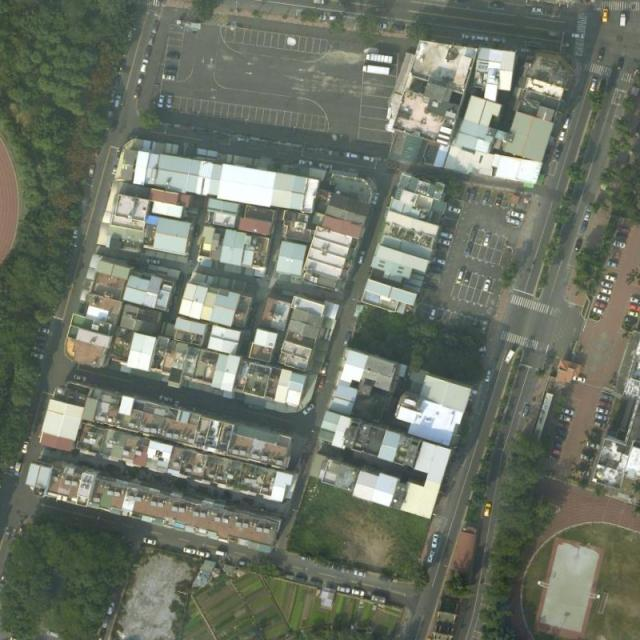vehicle: (366, 53, 394, 65), (363, 65, 390, 76), (370, 592, 388, 605), (301, 402, 316, 416), (437, 238, 454, 250), (138, 59, 150, 74), (447, 204, 462, 216), (158, 393, 174, 404), (597, 400, 613, 411), (439, 223, 456, 233), (467, 229, 478, 244), (318, 161, 334, 171), (356, 250, 366, 266), (555, 412, 571, 422), (438, 230, 454, 240), (588, 78, 598, 94), (551, 428, 567, 438), (316, 376, 327, 390), (598, 286, 612, 297), (597, 291, 611, 302), (511, 210, 525, 221), (505, 350, 515, 365), (432, 258, 447, 268), (467, 188, 477, 203), (430, 264, 445, 274), (343, 331, 352, 347), (570, 375, 586, 384), (455, 270, 464, 286), (374, 21, 390, 30), (463, 243, 474, 256), (310, 578, 324, 588), (346, 150, 360, 160), (87, 164, 97, 178), (132, 86, 142, 100), (320, 361, 330, 375), (196, 549, 210, 559), (337, 1, 351, 11), (428, 308, 438, 322), (482, 234, 492, 248), (581, 454, 595, 464), (494, 192, 504, 206), (298, 159, 315, 167), (483, 502, 491, 519), (351, 589, 366, 598), (489, 1, 504, 10), (595, 413, 610, 422), (611, 241, 626, 250), (616, 226, 631, 235), (482, 191, 491, 206), (483, 278, 493, 291), (546, 30, 562, 38), (586, 442, 602, 450), (554, 422, 570, 430), (549, 435, 565, 443), (107, 602, 116, 616), (362, 154, 376, 163), (73, 374, 87, 383), (21, 441, 30, 455), (182, 546, 196, 555), (214, 549, 228, 558), (313, 13, 327, 22), (427, 550, 436, 564), (596, 408, 610, 417), (600, 393, 614, 402), (624, 317, 638, 326), (436, 245, 450, 254), (330, 562, 342, 572), (114, 95, 122, 110), (491, 38, 506, 46), (530, 6, 545, 14), (562, 406, 574, 416), (605, 274, 617, 284), (573, 241, 583, 253), (480, 319, 488, 334), (47, 630, 60, 639), (151, 21, 160, 34), (144, 45, 153, 58), (523, 404, 532, 417), (597, 51, 606, 64), (434, 252, 447, 261), (236, 134, 249, 143), (13, 461, 22, 474), (31, 353, 45, 361), (143, 537, 157, 545), (164, 68, 178, 76), (461, 34, 477, 41), (570, 33, 584, 41), (594, 301, 608, 309), (158, 94, 165, 110), (146, 34, 156, 45), (552, 150, 561, 162), (585, 209, 594, 221), (607, 261, 619, 270), (354, 570, 367, 578), (146, 258, 159, 266), (38, 326, 51, 334), (616, 57, 624, 70), (483, 370, 491, 383), (614, 234, 627, 242), (629, 296, 640, 305), (629, 303, 640, 312), (602, 8, 609, 22), (626, 311, 640, 318), (294, 576, 306, 584), (98, 628, 106, 640), (372, 194, 380, 206), (393, 24, 405, 32), (432, 534, 438, 550), (594, 421, 606, 429), (593, 307, 605, 315), (509, 218, 521, 226), (166, 52, 179, 59), (166, 94, 173, 107), (237, 560, 250, 567), (329, 14, 342, 21), (601, 281, 612, 289), (580, 221, 588, 232), (338, 586, 350, 593), (563, 118, 570, 130), (137, 74, 144, 86), (72, 227, 79, 239), (341, 566, 351, 574), (162, 74, 175, 80), (478, 35, 489, 42), (559, 130, 566, 141), (464, 273, 471, 284), (621, 14, 626, 26), (313, 1, 324, 5), (434, 1, 446, 3), (590, 1, 596, 3)
